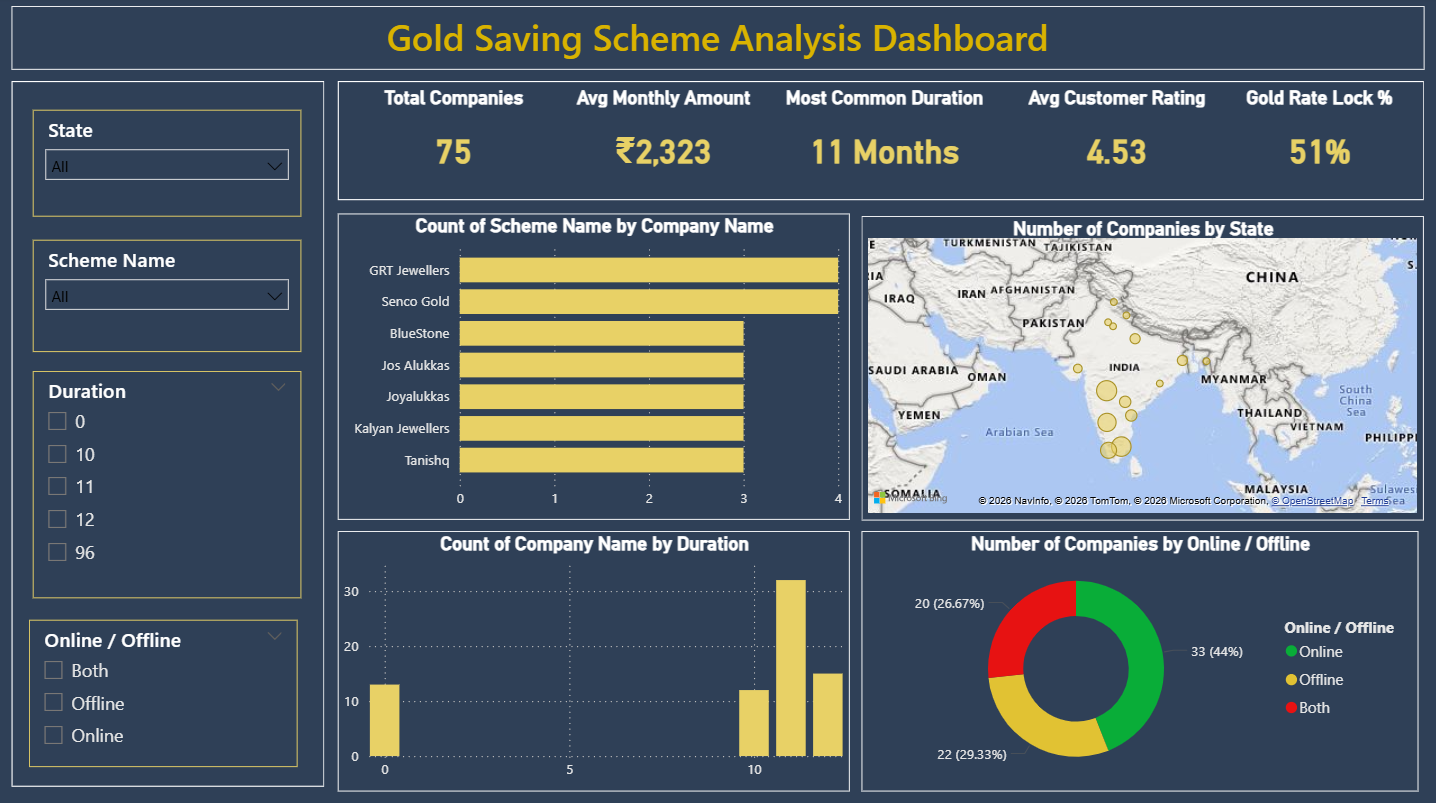

The dashboard page shown, as its layout file describes it:
{"tool":"powerbi","page":{"name":"Page 1","canvas":[1280,720],"ordinal":0},"visuals":[{"type":"textbox","box":[10.9,8.4,1258.3,56.7],"z":0},{"type":"shape","box":[301.6,76,967.6,106.2],"z":1000},{"type":"card","title":"Total Companies","fields":{"Values":["gold saving schemes.Total Companies"]},"box":[320.9,79.6,168.9,98.9],"z":2000},{"type":"card","title":"Avg Monthly Amount","fields":{"Values":["gold saving schemes.Avg Monthly Amount"]},"box":[501.9,79.6,179.8,98.9],"z":3000},{"type":"card","title":"Most Common Duration","fields":{"Values":["gold saving schemes.Avg Duration"]},"box":[694.9,79.6,188.2,98.9],"z":4000},{"type":"barChart","fields":{"Y":["CountNonNull(gold saving schemes.Scheme Name)"],"Category":["gold saving schemes.Company Name"]},"box":[301.6,194.2,456,272.7],"z":5000},{"type":"clusteredColumnChart","fields":{"Category":["gold saving schemes.Duration"],"Y":["CountNonNull(gold saving schemes.Company Name)"]},"box":[301.6,476.5,456,231.6],"z":6000},{"type":"donutChart","fields":{"Category":["gold saving schemes.Online / Offline"],"Y":["gold saving schemes.Number of Companies"]},"box":[768.5,476.5,495.8,231.6],"z":7000},{"type":"map","fields":{"Category":["gold saving schemes.State"],"Size":["gold saving schemes.Number of Companies"]},"box":[768.5,195.4,500.7,271.4],"z":8000},{"type":"shape","box":[10.9,76,278.7,628.6],"z":9000},{"type":"slicer","fields":{"Values":["gold saving schemes.State"]},"box":[30.2,101.3,238.9,95.3],"z":10000},{"type":"slicer","fields":{"Values":["gold saving schemes.Scheme Name"]},"box":[30.2,217.2,238.9,100.1],"z":11000},{"type":"slicer","fields":{"Values":["gold saving schemes.Duration"]},"box":[30.2,334.2,238.9,202.7],"z":12000},{"type":"slicer","fields":{"Values":["gold saving schemes.Online / Offline"]},"box":[26.5,555,238.9,131.5],"z":13000},{"type":"card","title":"Avg Customer Rating","fields":{"Values":["gold saving schemes.Avg Customer Rating"]},"box":[902.4,79.6,185.8,98.9],"z":13001},{"type":"card","title":"Gold Rate Lock %","fields":{"Values":["gold saving schemes.Gold Rate Lock %"]},"box":[1083.4,79.6,185.8,98.9],"z":13002}]}

Visuals, with their boxes in screenshot pixels (x1, y1, x2, y2), scaled from the page's 1280x720 canvas onto the 1436x803 screenshot:
textbox: bbox=[12, 9, 1424, 73]
shape: bbox=[338, 85, 1424, 203]
"Total Companies" card: bbox=[360, 89, 549, 199]
"Avg Monthly Amount" card: bbox=[563, 89, 765, 199]
"Most Common Duration" card: bbox=[780, 89, 991, 199]
barChart - CountNonNull(gold saving schemes.Scheme Name) x gold saving schemes.Company Name: bbox=[338, 217, 850, 521]
clusteredColumnChart - gold saving schemes.Duration x CountNonNull(gold saving schemes.Company Name): bbox=[338, 531, 850, 790]
donutChart - gold saving schemes.Online / Offline x gold saving schemes.Number of Companies: bbox=[862, 531, 1418, 790]
map - gold saving schemes.State x gold saving schemes.Number of Companies: bbox=[862, 218, 1424, 521]
shape: bbox=[12, 85, 325, 786]
slicer - gold saving schemes.State: bbox=[34, 113, 302, 219]
slicer - gold saving schemes.Scheme Name: bbox=[34, 242, 302, 354]
slicer - gold saving schemes.Duration: bbox=[34, 373, 302, 599]
slicer - gold saving schemes.Online / Offline: bbox=[30, 619, 298, 766]
"Avg Customer Rating" card: bbox=[1012, 89, 1221, 199]
"Gold Rate Lock %" card: bbox=[1215, 89, 1424, 199]
